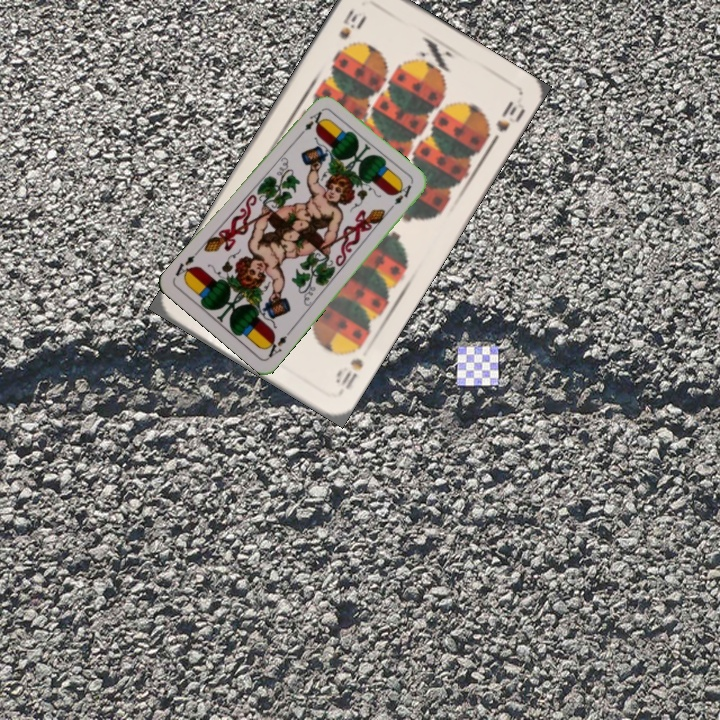EA: (261, 326, 294, 361), (294, 107, 325, 139)
S10: (331, 354, 366, 392), (335, 5, 367, 43)
